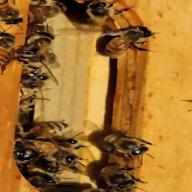Bee: (95, 122, 166, 164), (90, 27, 164, 56), (0, 2, 70, 30), (16, 146, 76, 173), (0, 34, 37, 74), (22, 120, 74, 136)
